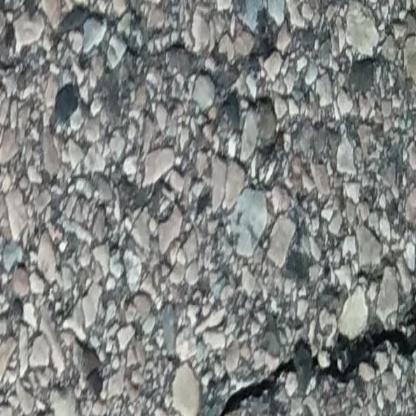Cracks: (200, 238, 416, 416), (49, 410, 168, 416)
